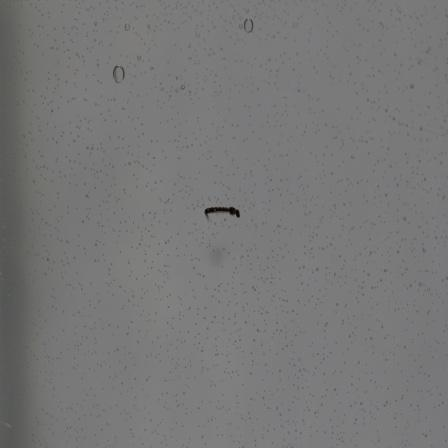Jentik-Nyamuk: (203, 198, 243, 227)
